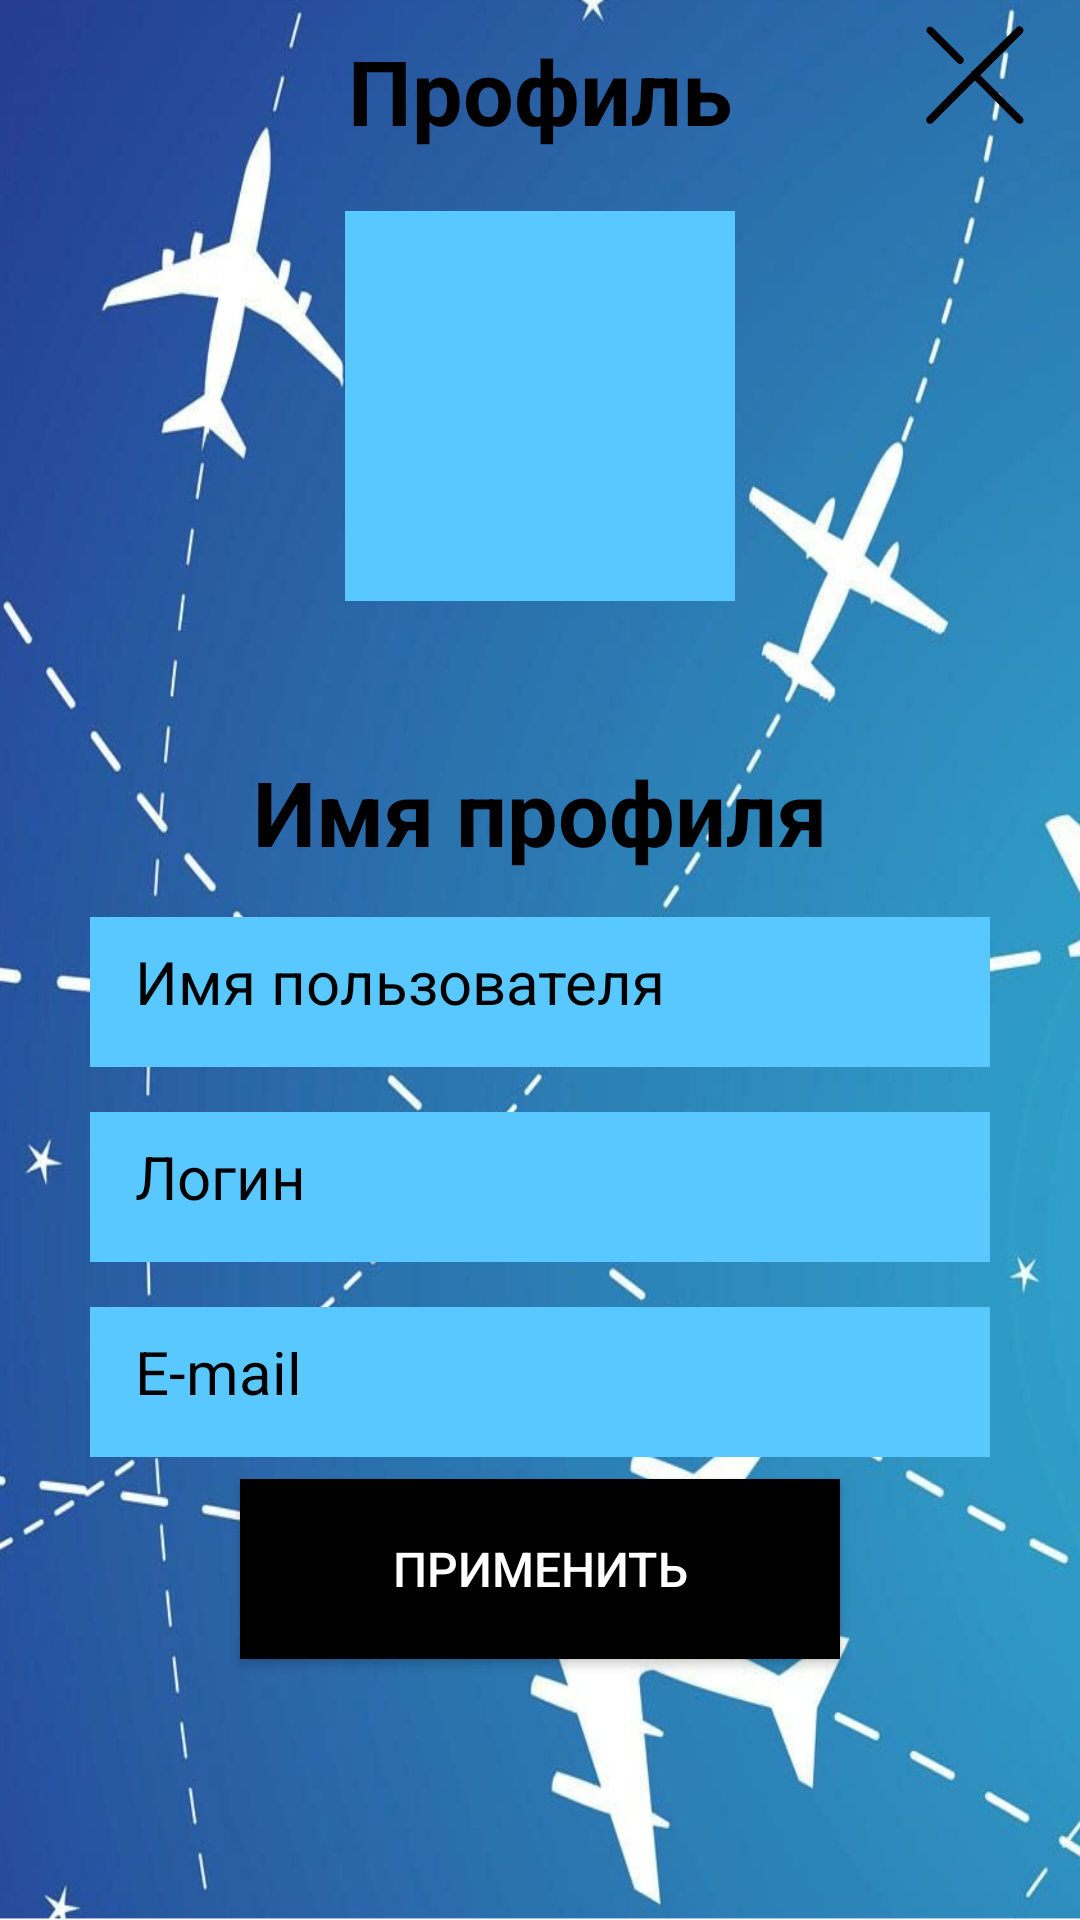

Icons on this 1080×1920 Android screen, each with its box as (x1, y1, x2, y2):
close: (926, 15, 1024, 135)
